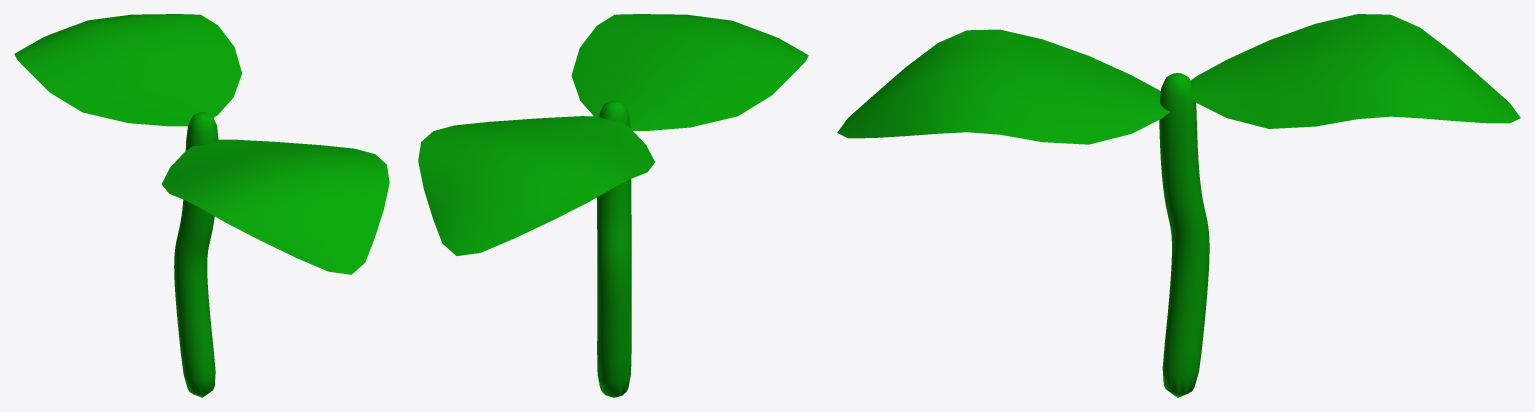
The model's file is Sprout.fbx.
The picture shows the model from 3 angles, left to right: view 1: azimuth 30°, elevation 25°; view 2: azimuth 150°, elevation 25°; view 3: azimuth 270°, elevation 25°; orthographic projection. The views are drawn at different scales.
Parts seen in each view (by area): view 1: Plane; view 2: Plane; view 3: Plane.
Boxes of the visible parts, bbox=[...] form: Plane: bbox=[14, 14, 389, 397]; Plane: bbox=[418, 14, 808, 397]; Plane: bbox=[837, 14, 1520, 397].
Bounding box in the file's own units: 12.64 × 19.38 × 34.72.
